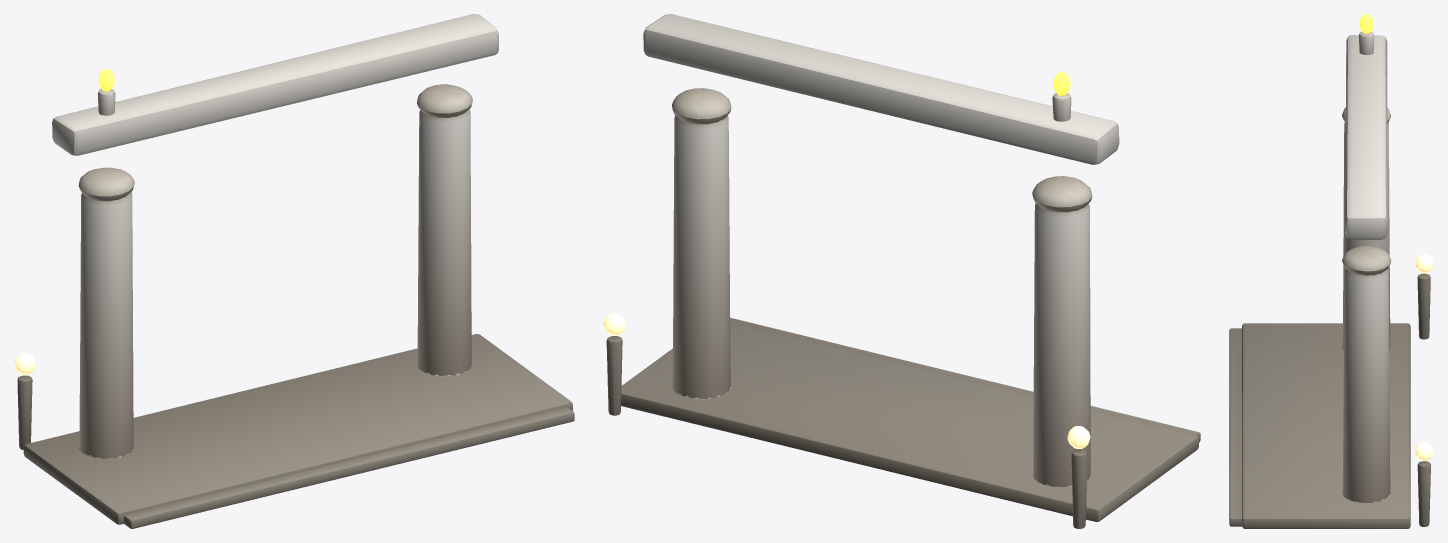
3 views of the same model, side by side, from view 1: azimuth 30°, elevation 25°; view 2: azimuth 150°, elevation 25°; view 3: azimuth 270°, elevation 25° (orthographic). The views are drawn at different scales.
Parts seen in each view (by area): view 1: gate_ef25ba38; view 2: gate_ef25ba38; view 3: gate_ef25ba38.
Part boxes in pixels (x1,y1,x2,y2): gate_ef25ba38: [14, 14, 574, 528]; gate_ef25ba38: [603, 14, 1200, 528]; gate_ef25ba38: [1229, 14, 1433, 528].
Size of the model in its own units: 5.8 by 4.75 by 2.55.
